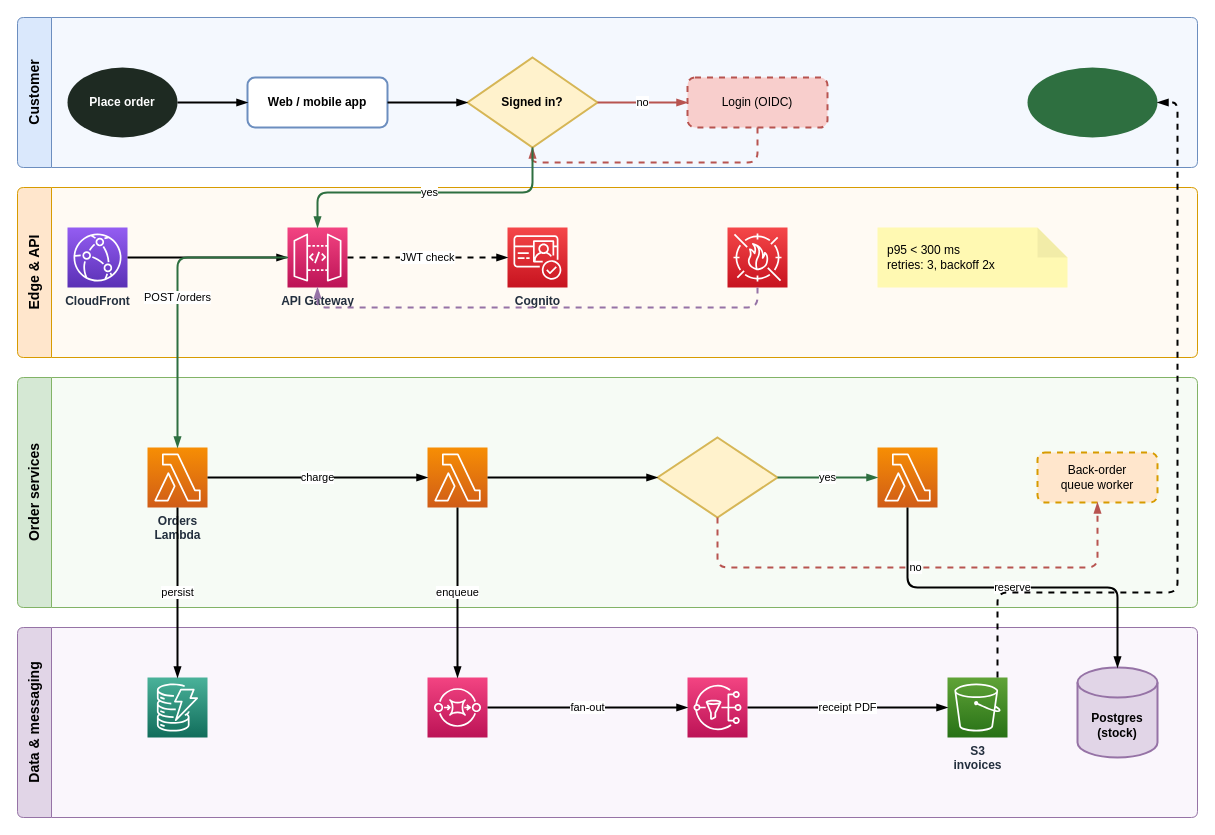
The diagram is 1215 pixels wide and 835 high, and some of its shapes have lost their labels. The shapes that lost their labels are listed below. From the top down, each one's centre as x and y in pixels, then its label:
the point at 1092,102: Order confirmed
the point at 757,257: WAF
the point at 457,477: Payment Lambda
the point at 717,477: In stock?
the point at 907,477: Inventory Lambda
the point at 177,707: DynamoDB orders
the point at 457,707: SQS fulfilment
the point at 717,707: SNS receipts
